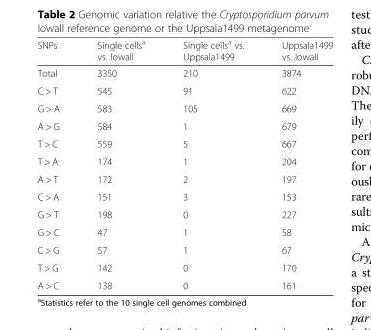table: (36, 37, 332, 290)
table column: (163, 37, 262, 290), (77, 37, 163, 290), (262, 37, 332, 290), (36, 37, 77, 290)
table column header: (36, 37, 332, 64)
table row: (36, 37, 332, 64), (36, 81, 332, 99), (36, 116, 332, 134), (36, 134, 332, 152), (36, 152, 332, 170), (36, 187, 332, 205), (36, 205, 332, 223), (36, 240, 332, 258), (36, 258, 332, 276), (36, 64, 332, 81), (36, 99, 332, 116), (36, 170, 332, 187), (36, 223, 332, 240), (36, 276, 332, 290)
